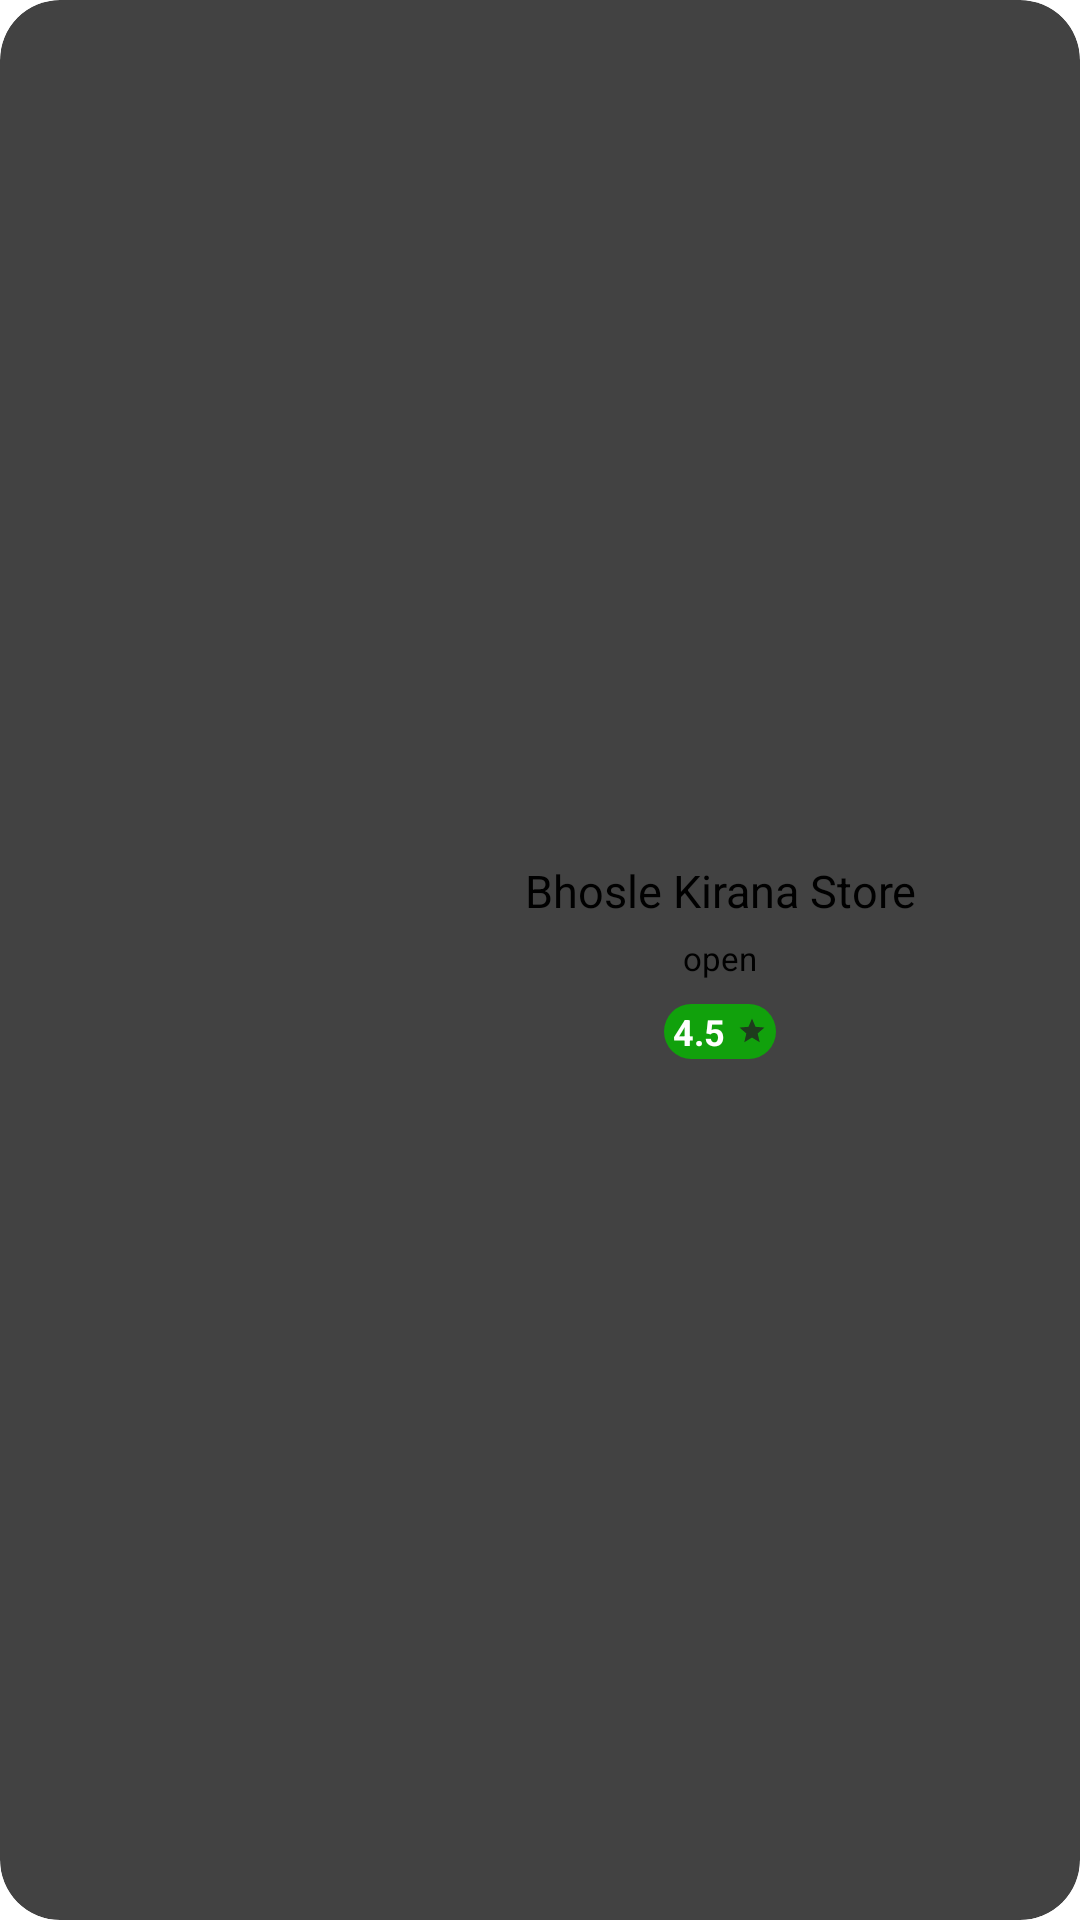

Named icons in this screenshot (1080*1920) and their centers, (x=x, y=y):
star: (x=752, y=1030)
